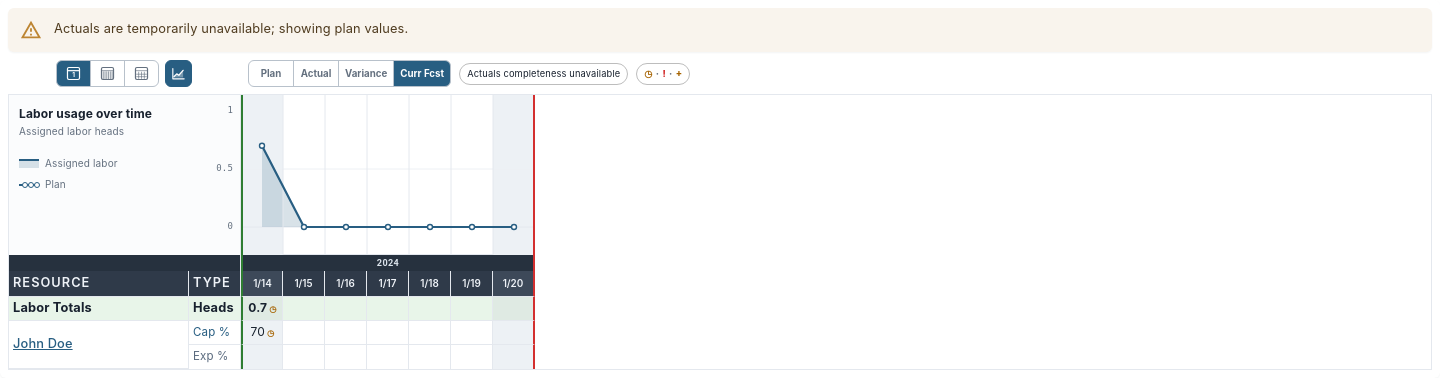
ResourceAssignmentCalendar - Read-Only Display › Calendar Rendering › averages all seven calendar days in the Sunday-through-Saturday Weekly view
The image size is (1440, 387).
expect the table is shown: met, box [9,271,535,369]
Click the button named "Weekly view". click: (108, 74)
box: [90,60,125,87]
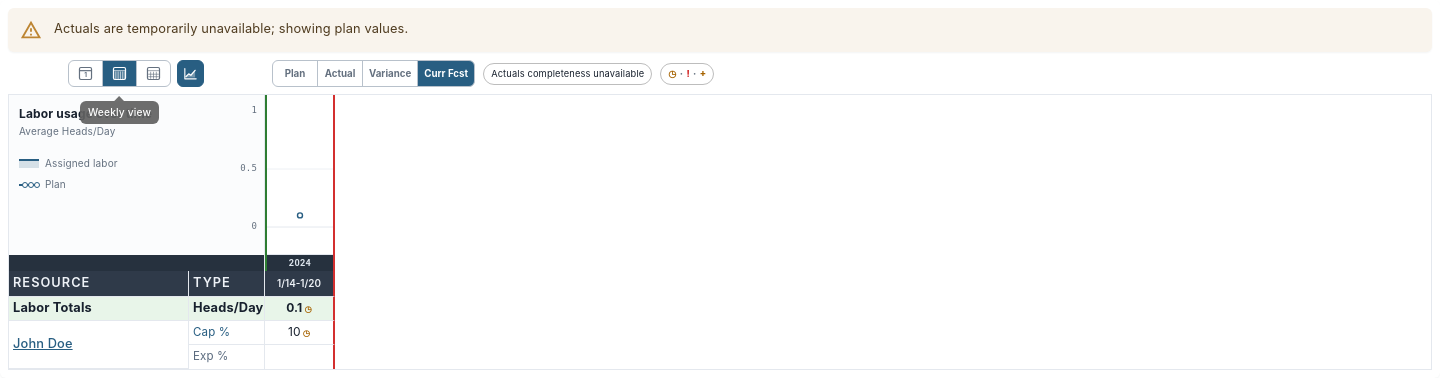
expect the column heading named "Week: January 14, 2024 through January 20, 2024" reads "1/14-1/20": met, box [277,277,321,289]
expect the text "Heads/Day" is shown: met, box [189,297,265,321]
expect the text "0.1" is shown: met, box [286,302,302,314]
